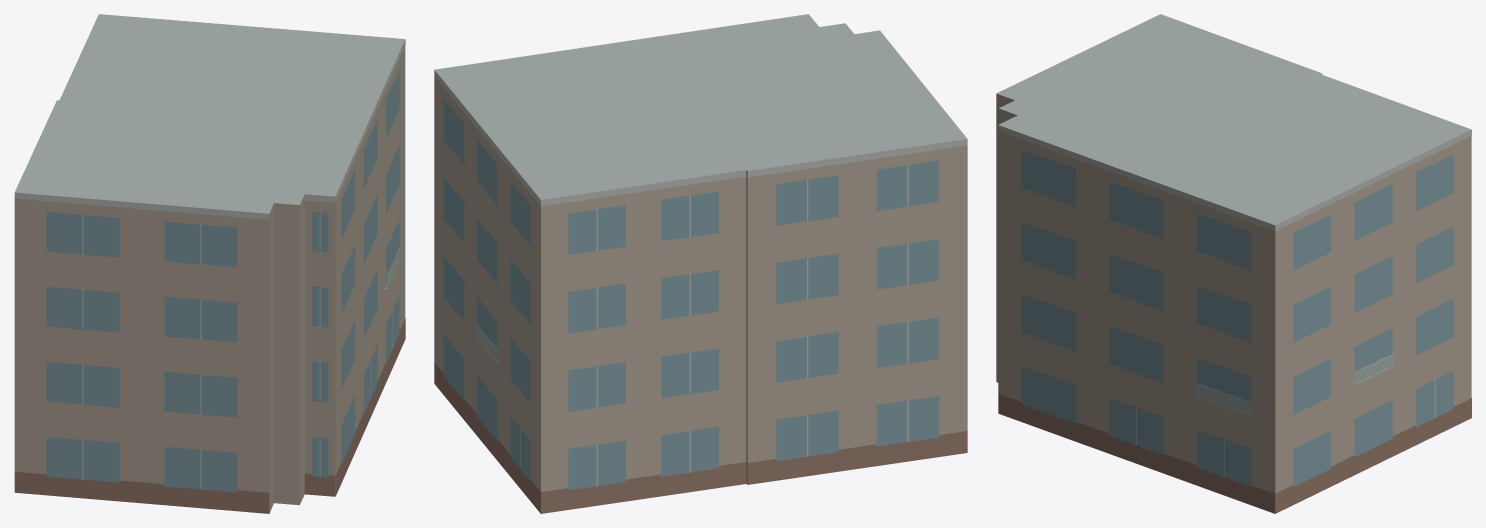
Rendered from survey-upis-32620892.glb.
3 renders of one model, left to right at view 1: azimuth 30°, elevation 25°; view 2: azimuth 150°, elevation 25°; view 3: azimuth 270°, elevation 25°, orthographic. The views are drawn at different scales.
Visible parts, largest first — view 1: survey-upis-32620892.tmp; view 2: survey-upis-32620892.tmp; view 3: survey-upis-32620892.tmp.
Boxes of the visible parts, left/top/right/bottom form: survey-upis-32620892.tmp: left=14, top=14, right=405, bottom=513; survey-upis-32620892.tmp: left=434, top=14, right=967, bottom=513; survey-upis-32620892.tmp: left=996, top=14, right=1471, bottom=513.
Size of the model in its own units: 18.54 by 11.8 by 17.64.
